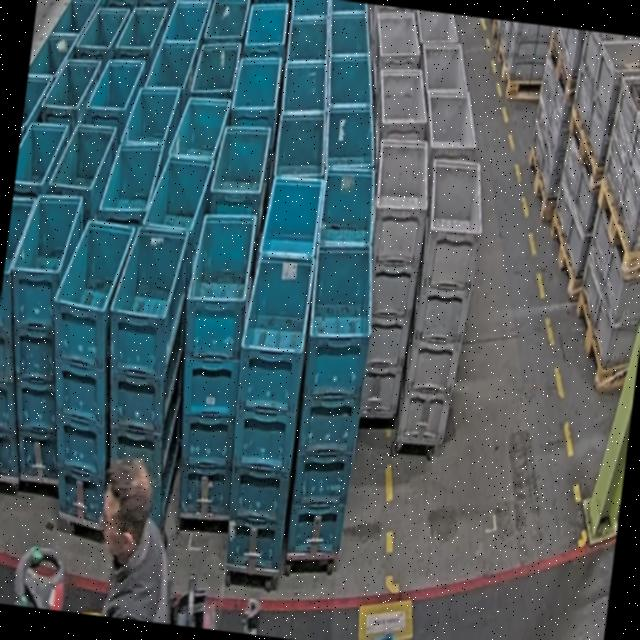4G: (396, 155, 490, 448), (346, 134, 436, 418)
B4: (83, 219, 203, 533), (27, 215, 143, 527), (278, 236, 382, 562), (212, 248, 316, 572), (159, 208, 265, 519), (0, 186, 93, 481)
